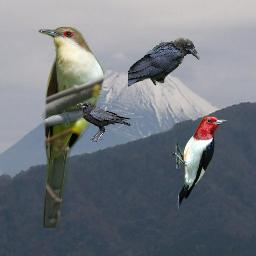Crow: (128, 37, 200, 87), (77, 102, 131, 142)
Cuckoo: (38, 26, 106, 228)
Woodpecker: (169, 116, 228, 210)
